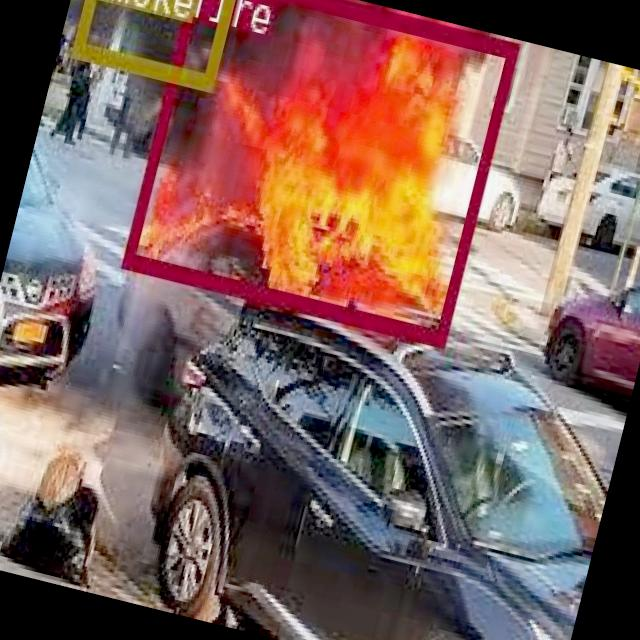fire: (120, 0, 517, 343)
smoke: (69, 0, 238, 87)
